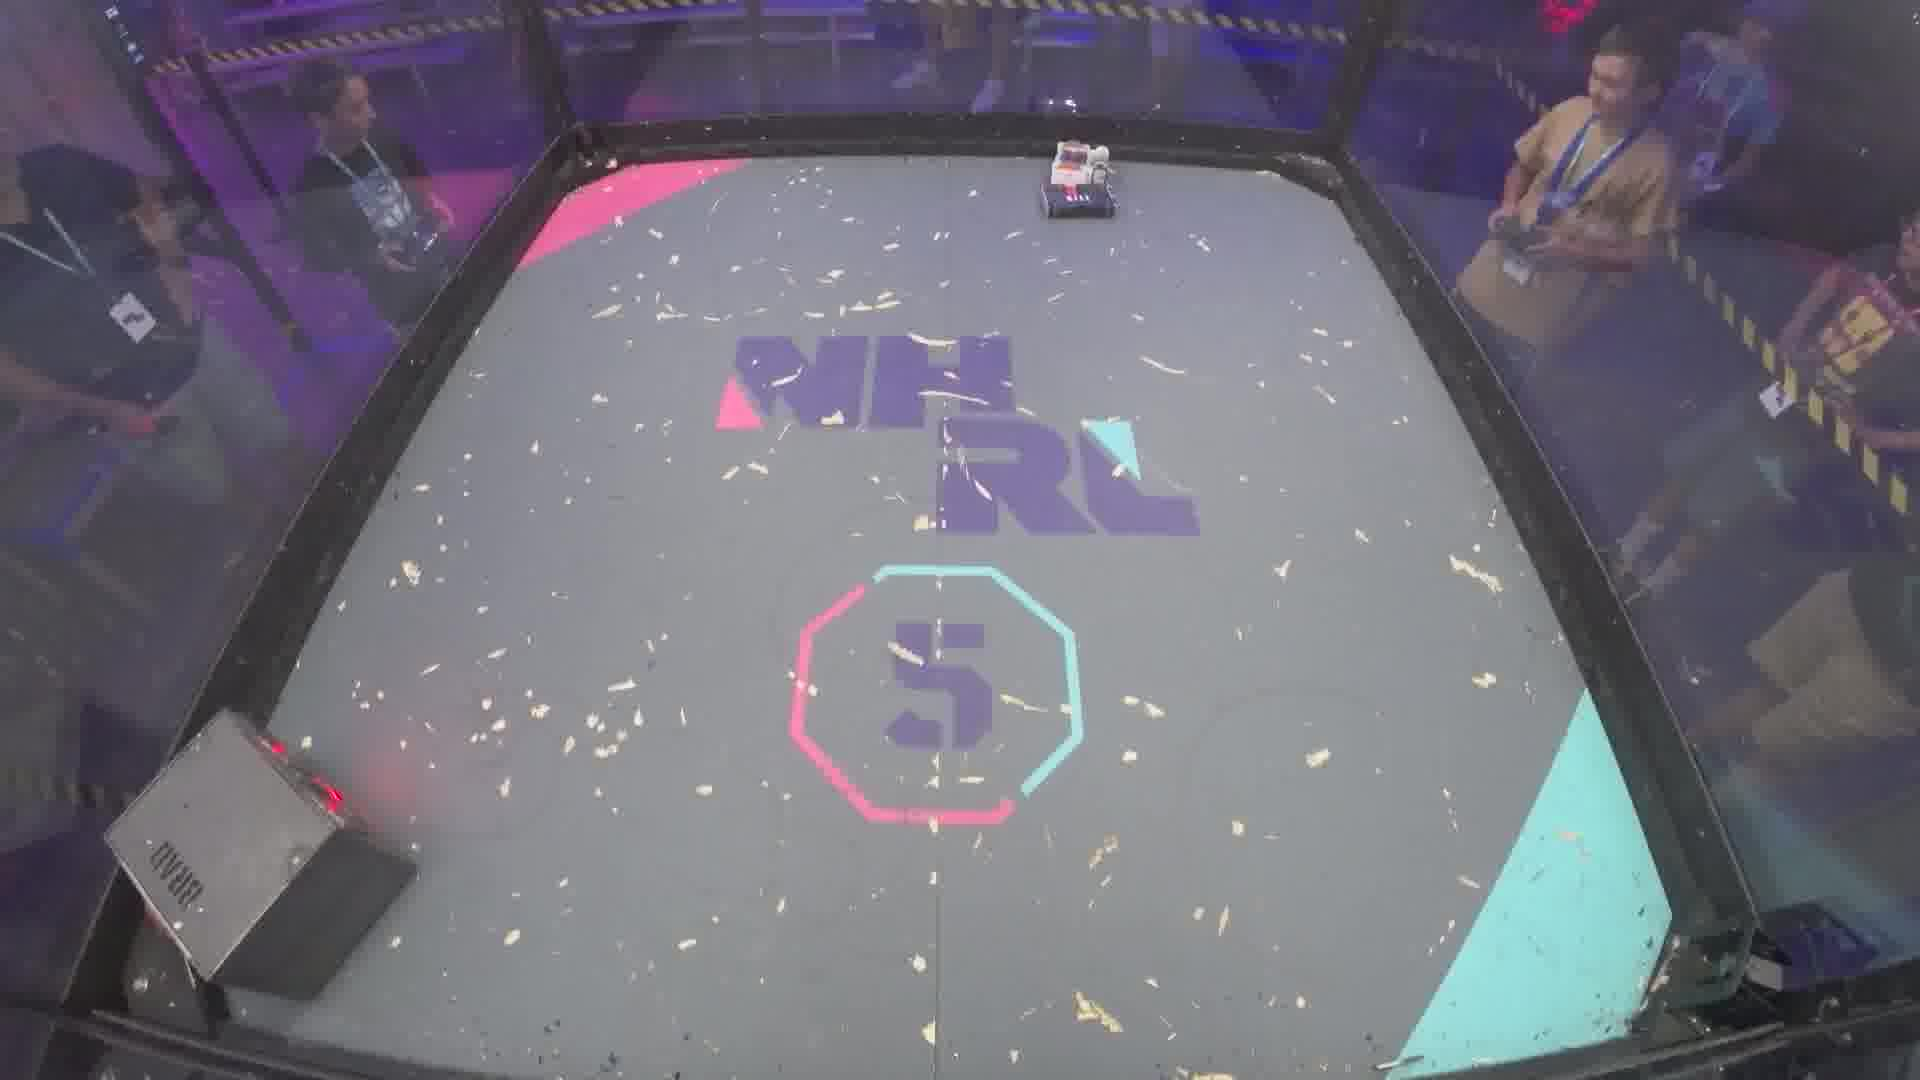combatbot: (1042, 137, 1121, 222)
housebot: (103, 708, 417, 1029)
